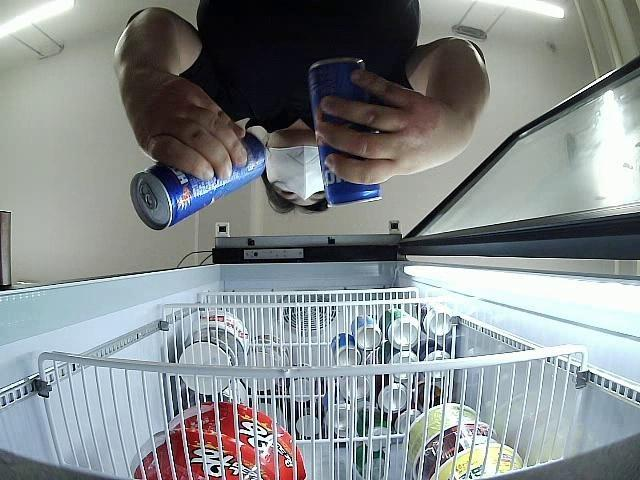16_hot6: (130, 133, 266, 234), (309, 59, 384, 208)
